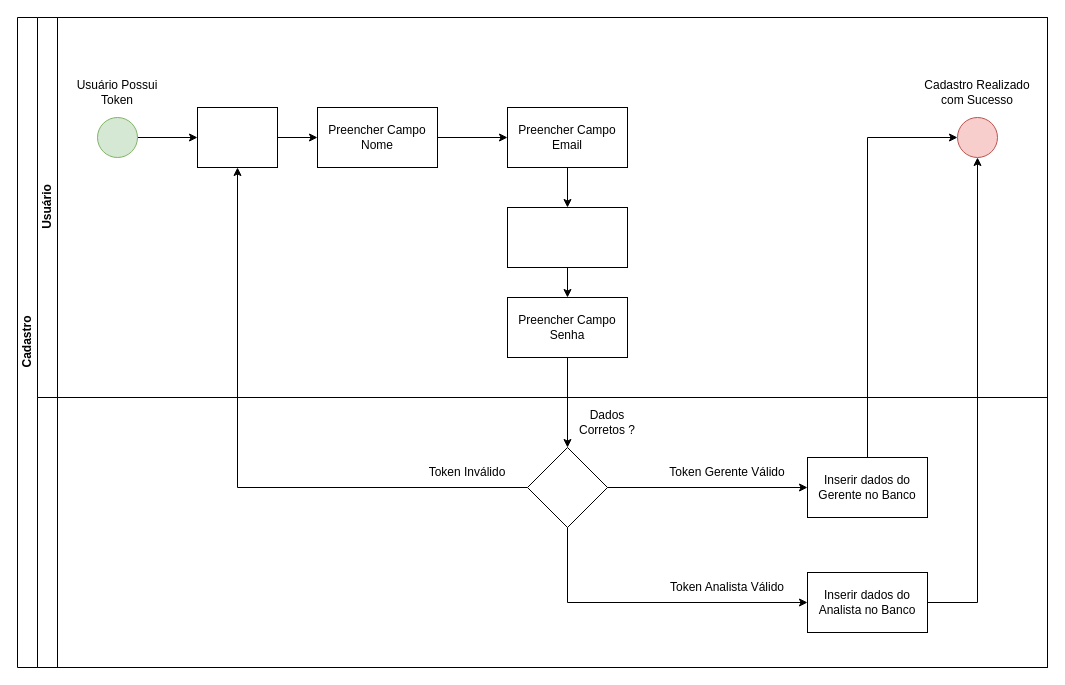
The diagram is 1065 pixels wide and 685 high, and some of its shapes have lost their labels. The shapes that lost their labels are listed below. From the top down, each one's box as (x1, y1, x2, y2) in pixels, then its label:
(196, 106, 278, 168): Inserir Dados no Formulário
(506, 206, 628, 268): Preencher Campo Código de Segurança
(36, 396, 1048, 668): Sistema
